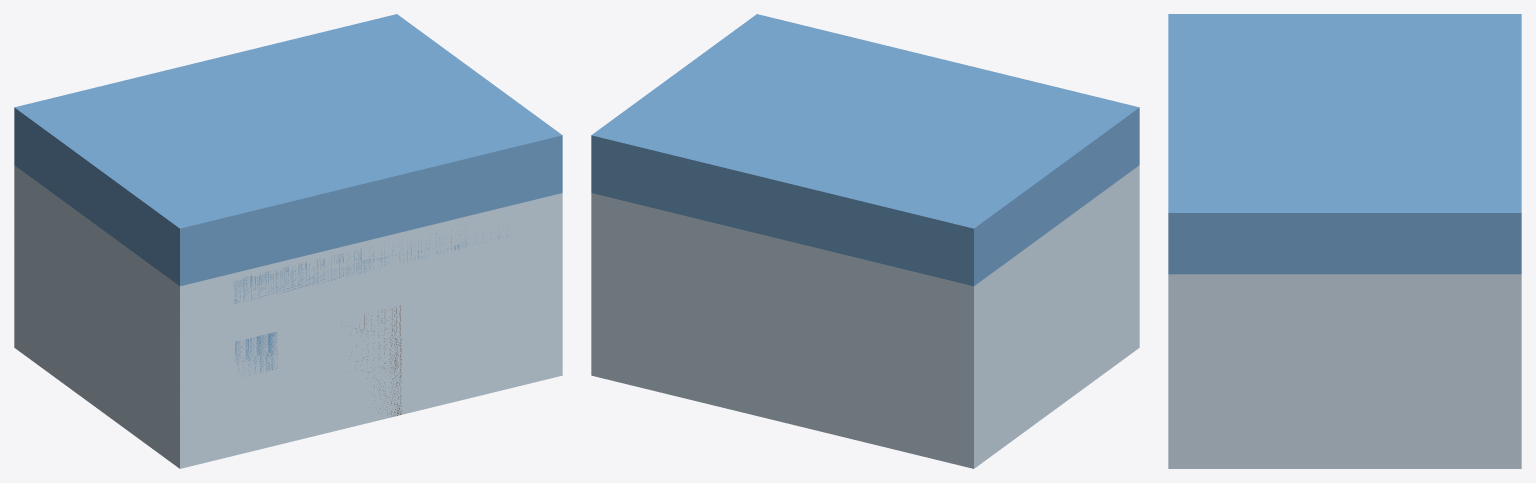
The model's file is gedung_laundry.fbx.
3 renders of one model, left to right at view 1: azimuth 30°, elevation 25°; view 2: azimuth 150°, elevation 25°; view 3: azimuth 270°, elevation 25°, orthographic. The views are drawn at different scales.
Visible parts, largest first — view 1: gedung_laundry; view 2: gedung_laundry; view 3: gedung_laundry.
Part boxes in pixels (bbox=[...]): gedung_laundry: bbox=[14, 14, 562, 468]; gedung_laundry: bbox=[591, 14, 1139, 468]; gedung_laundry: bbox=[1168, 14, 1521, 468].
Size of the model in its own units: 800 by 480 by 600.
1 material, 1 textured.
